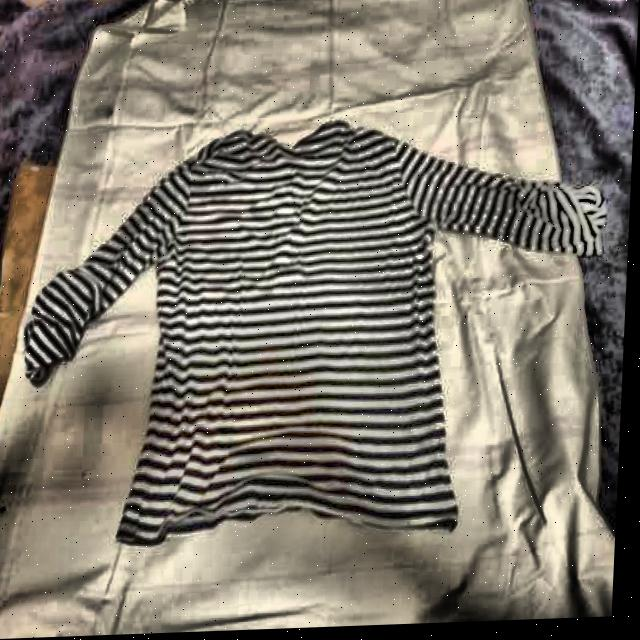clothes: (15, 111, 612, 558)
